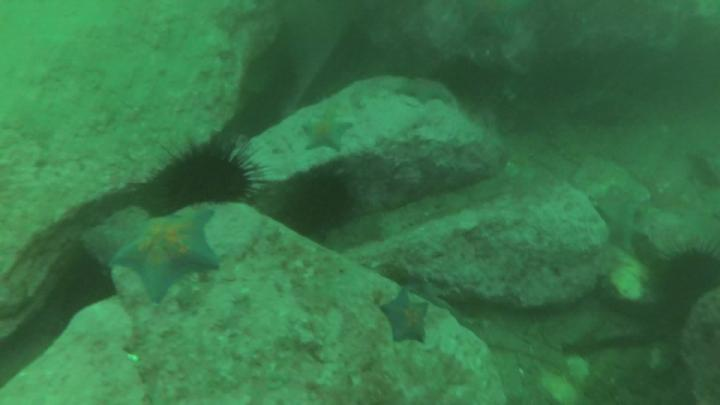echinus: (143, 138, 266, 213), (648, 236, 720, 328), (293, 170, 357, 239)
holothurian: (551, 125, 584, 168)
scallop: (239, 43, 304, 113), (439, 52, 484, 99)
starfish: (108, 210, 228, 307), (376, 285, 431, 348), (392, 74, 462, 108), (299, 112, 353, 153)
